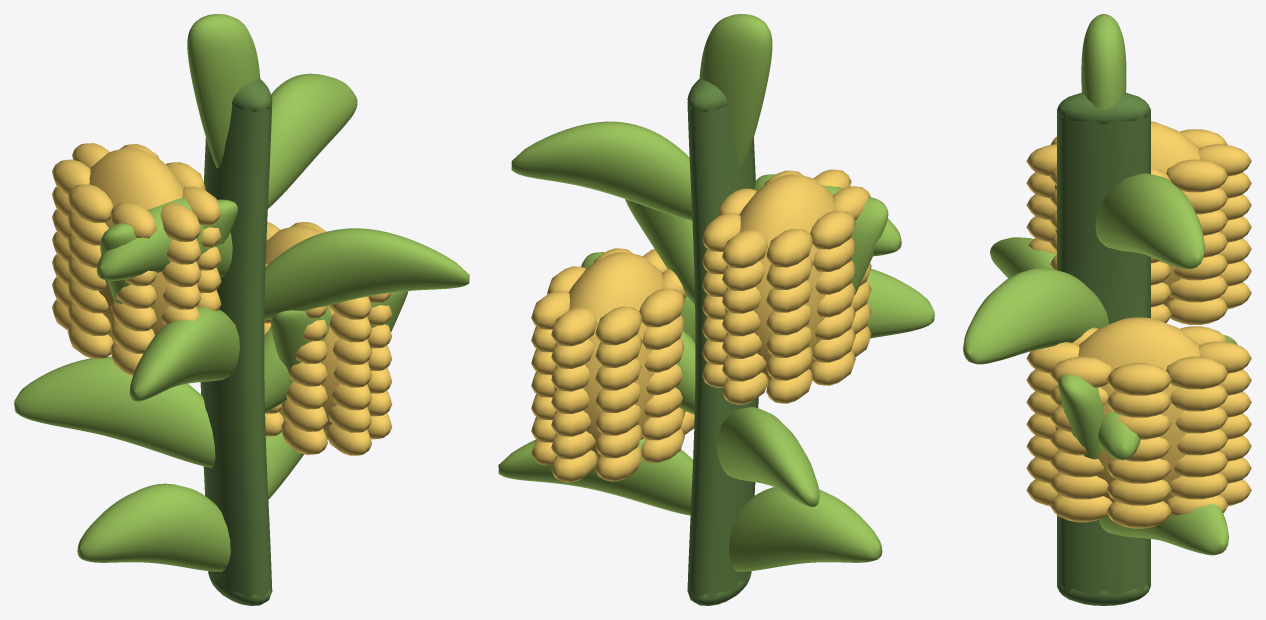
File: crop_5_stage_3.fbx
3 views of the same model, side by side, from view 1: azimuth 30°, elevation 25°; view 2: azimuth 150°, elevation 25°; view 3: azimuth 270°, elevation 25° (orthographic). The views are drawn at different scales.
Parts seen in each view (by area): view 1: crop_5_stage_3; view 2: crop_5_stage_3; view 3: crop_5_stage_3.
Part boxes in pixels (x1,y1,x2,y2): crop_5_stage_3: (14, 14, 469, 605); crop_5_stage_3: (498, 14, 934, 605); crop_5_stage_3: (963, 14, 1251, 605).
Size of the model in its own units: 0.8 by 1.4 by 0.64.
1 material, 1 textured.
